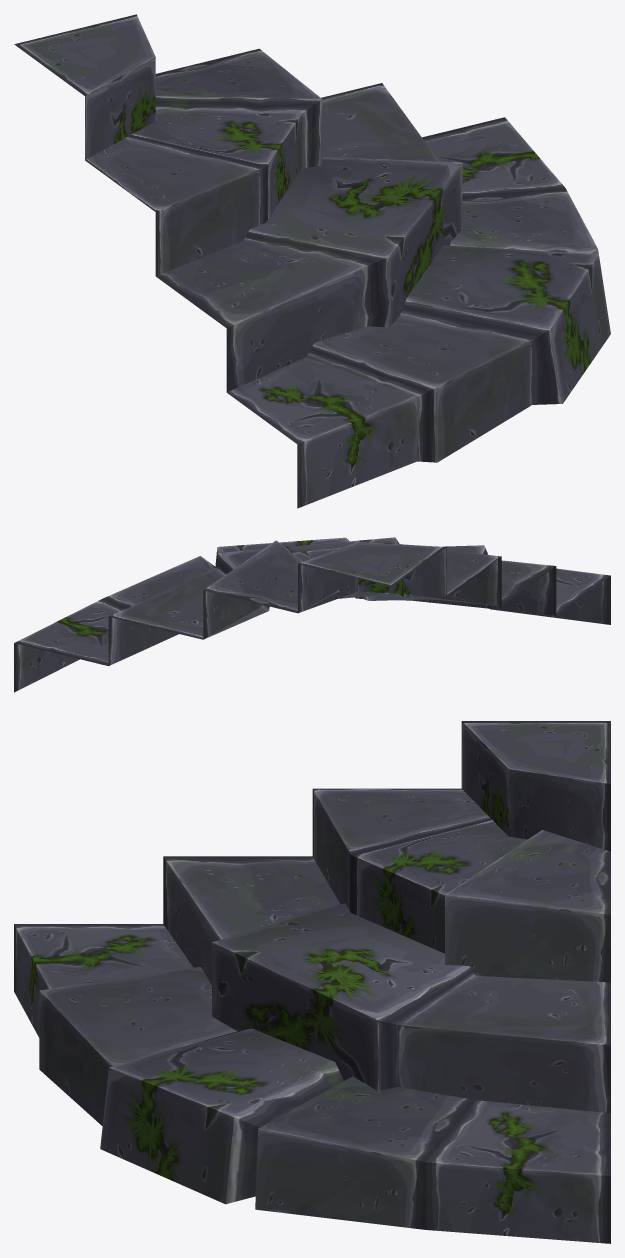
File: MOD_Stairs_01_E_convex_4.fbx
3 renders of one model, top to bottom at view 1: azimuth 30°, elevation 25°; view 2: azimuth 150°, elevation 25°; view 3: azimuth 270°, elevation 25°, orthographic. The views are drawn at different scales.
Parts seen in each view (by area): view 1: MOD_Stairs_01_E_convex_4; view 2: MOD_Stairs_01_E_convex_4; view 3: MOD_Stairs_01_E_convex_4.
Part boxes in pixels (x1=…): MOD_Stairs_01_E_convex_4: x1=14, y1=14, x2=610, y2=508; MOD_Stairs_01_E_convex_4: x1=14, y1=537, x2=610, y2=692; MOD_Stairs_01_E_convex_4: x1=14, y1=721, x2=610, y2=1243.
Size of what is drawn, in the model's own units: 200 by 100 by 200.
